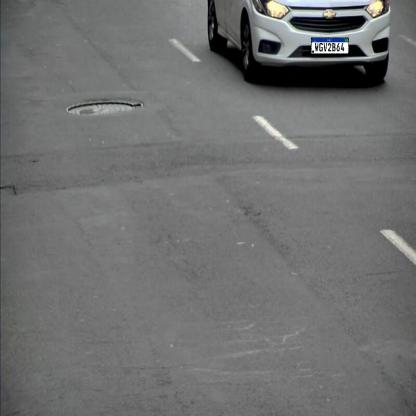PlacaM: (311, 38, 349, 54)
